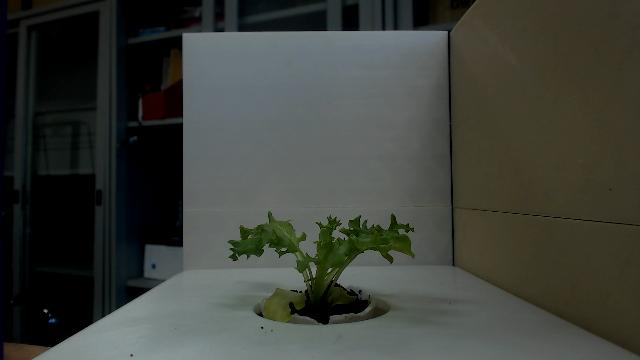Vegetative Stage: (227, 209, 417, 326)
